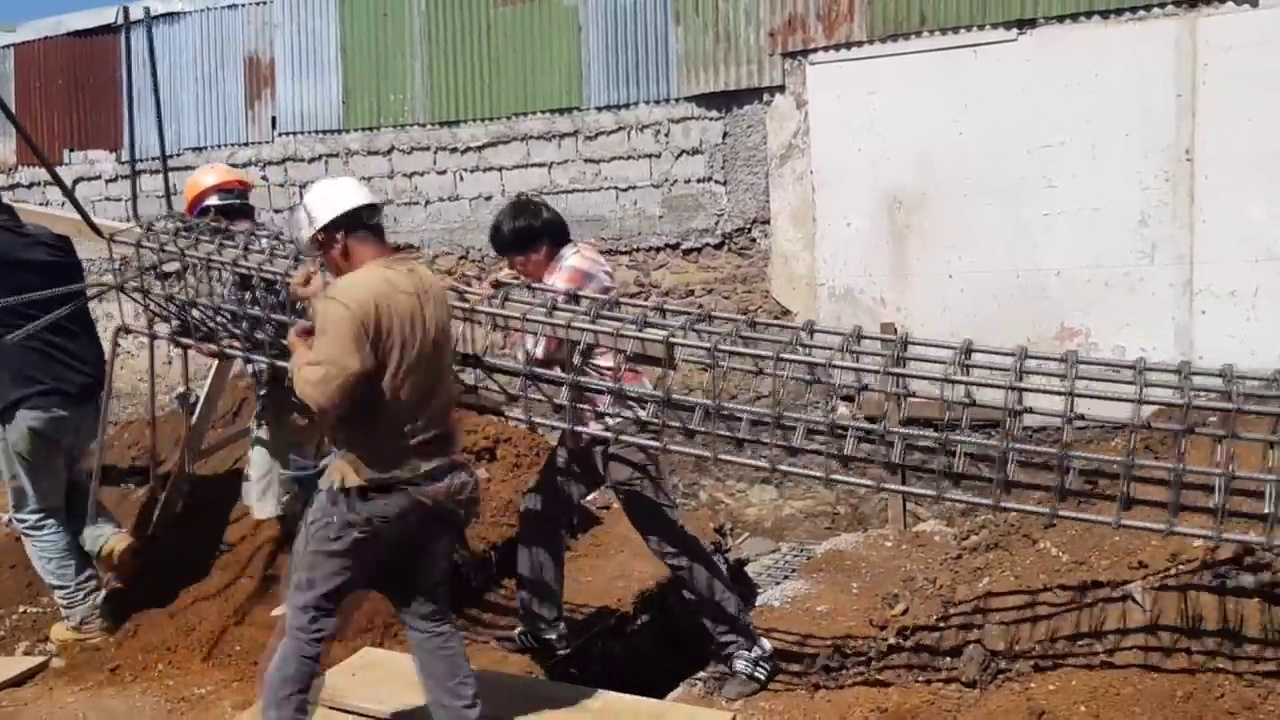helmet: (291, 170, 386, 254), (180, 160, 251, 218)
helmet-off: (484, 196, 571, 293)
helmet-on: (291, 173, 411, 275), (180, 157, 258, 245)
person: (485, 185, 775, 703), (249, 174, 486, 720), (180, 157, 331, 564), (2, 201, 138, 644)
